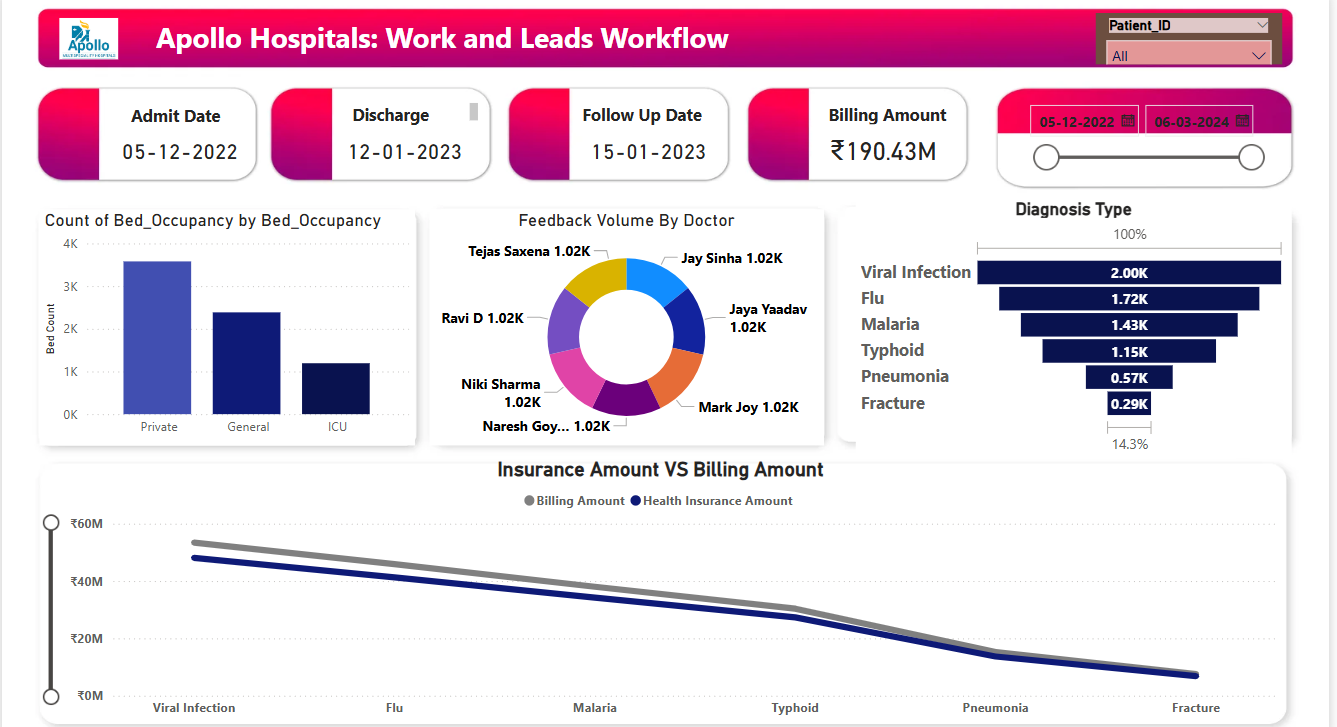

Layout of this report page (visuals, bound fields, positions):
{"tool":"powerbi","page":{"name":"Page 1","canvas":[1280,720],"ordinal":0},"visuals":[{"type":"image","box":[50.8,0,87.8,87.8],"z":0},{"type":"textbox","box":[161.9,20.6,577.7,48],"z":1},{"type":"slicer","fields":{"Values":["Sheet1.23571"]},"box":[994.9,19.2,244.3,49.4],"z":3},{"type":"card","fields":{"Values":["Sheet1.Admit Date"]},"box":[312.9,113.9,159.2,72.7],"z":4},{"type":"textbox","box":[118,101.5,109.8,48],"z":5},{"type":"textbox","box":[329.3,101.5,134.5,35.7],"z":6},{"type":"card","fields":{"Values":["Sheet1.Discharge Date"]},"box":[90.6,113.9,159.2,72.7],"z":8},{"type":"textbox","box":[554.4,101.5,196.2,35.7],"z":9},{"type":"card","fields":{"Values":["Sheet1.Follow Up"]},"box":[543.4,112.5,159.2,72.7],"z":10},{"type":"textbox","box":[778,101.5,150.9,35.7],"z":11},{"type":"card","fields":{"Values":["Sheet1.13234"]},"box":[739.6,137.2,252.5,78.2],"z":12}]}

Visuals, with their boxes on the page's 1280x720 design canvas (x1, y1, x2, y2). These are canvas units, not pixel positions in the 1337x727 screenshot, which may show the page scaled, cropped or inside an application window:
image: bbox=(51, 0, 139, 88)
textbox: bbox=(162, 21, 740, 69)
slicer - Sheet1.23571: bbox=(995, 19, 1239, 69)
card - Sheet1.Admit Date: bbox=(313, 114, 472, 187)
textbox: bbox=(118, 102, 228, 150)
textbox: bbox=(329, 102, 464, 137)
card - Sheet1.Discharge Date: bbox=(91, 114, 250, 187)
textbox: bbox=(554, 102, 751, 137)
card - Sheet1.Follow Up: bbox=(543, 112, 703, 185)
textbox: bbox=(778, 102, 929, 137)
card - Sheet1.13234: bbox=(740, 137, 992, 215)
